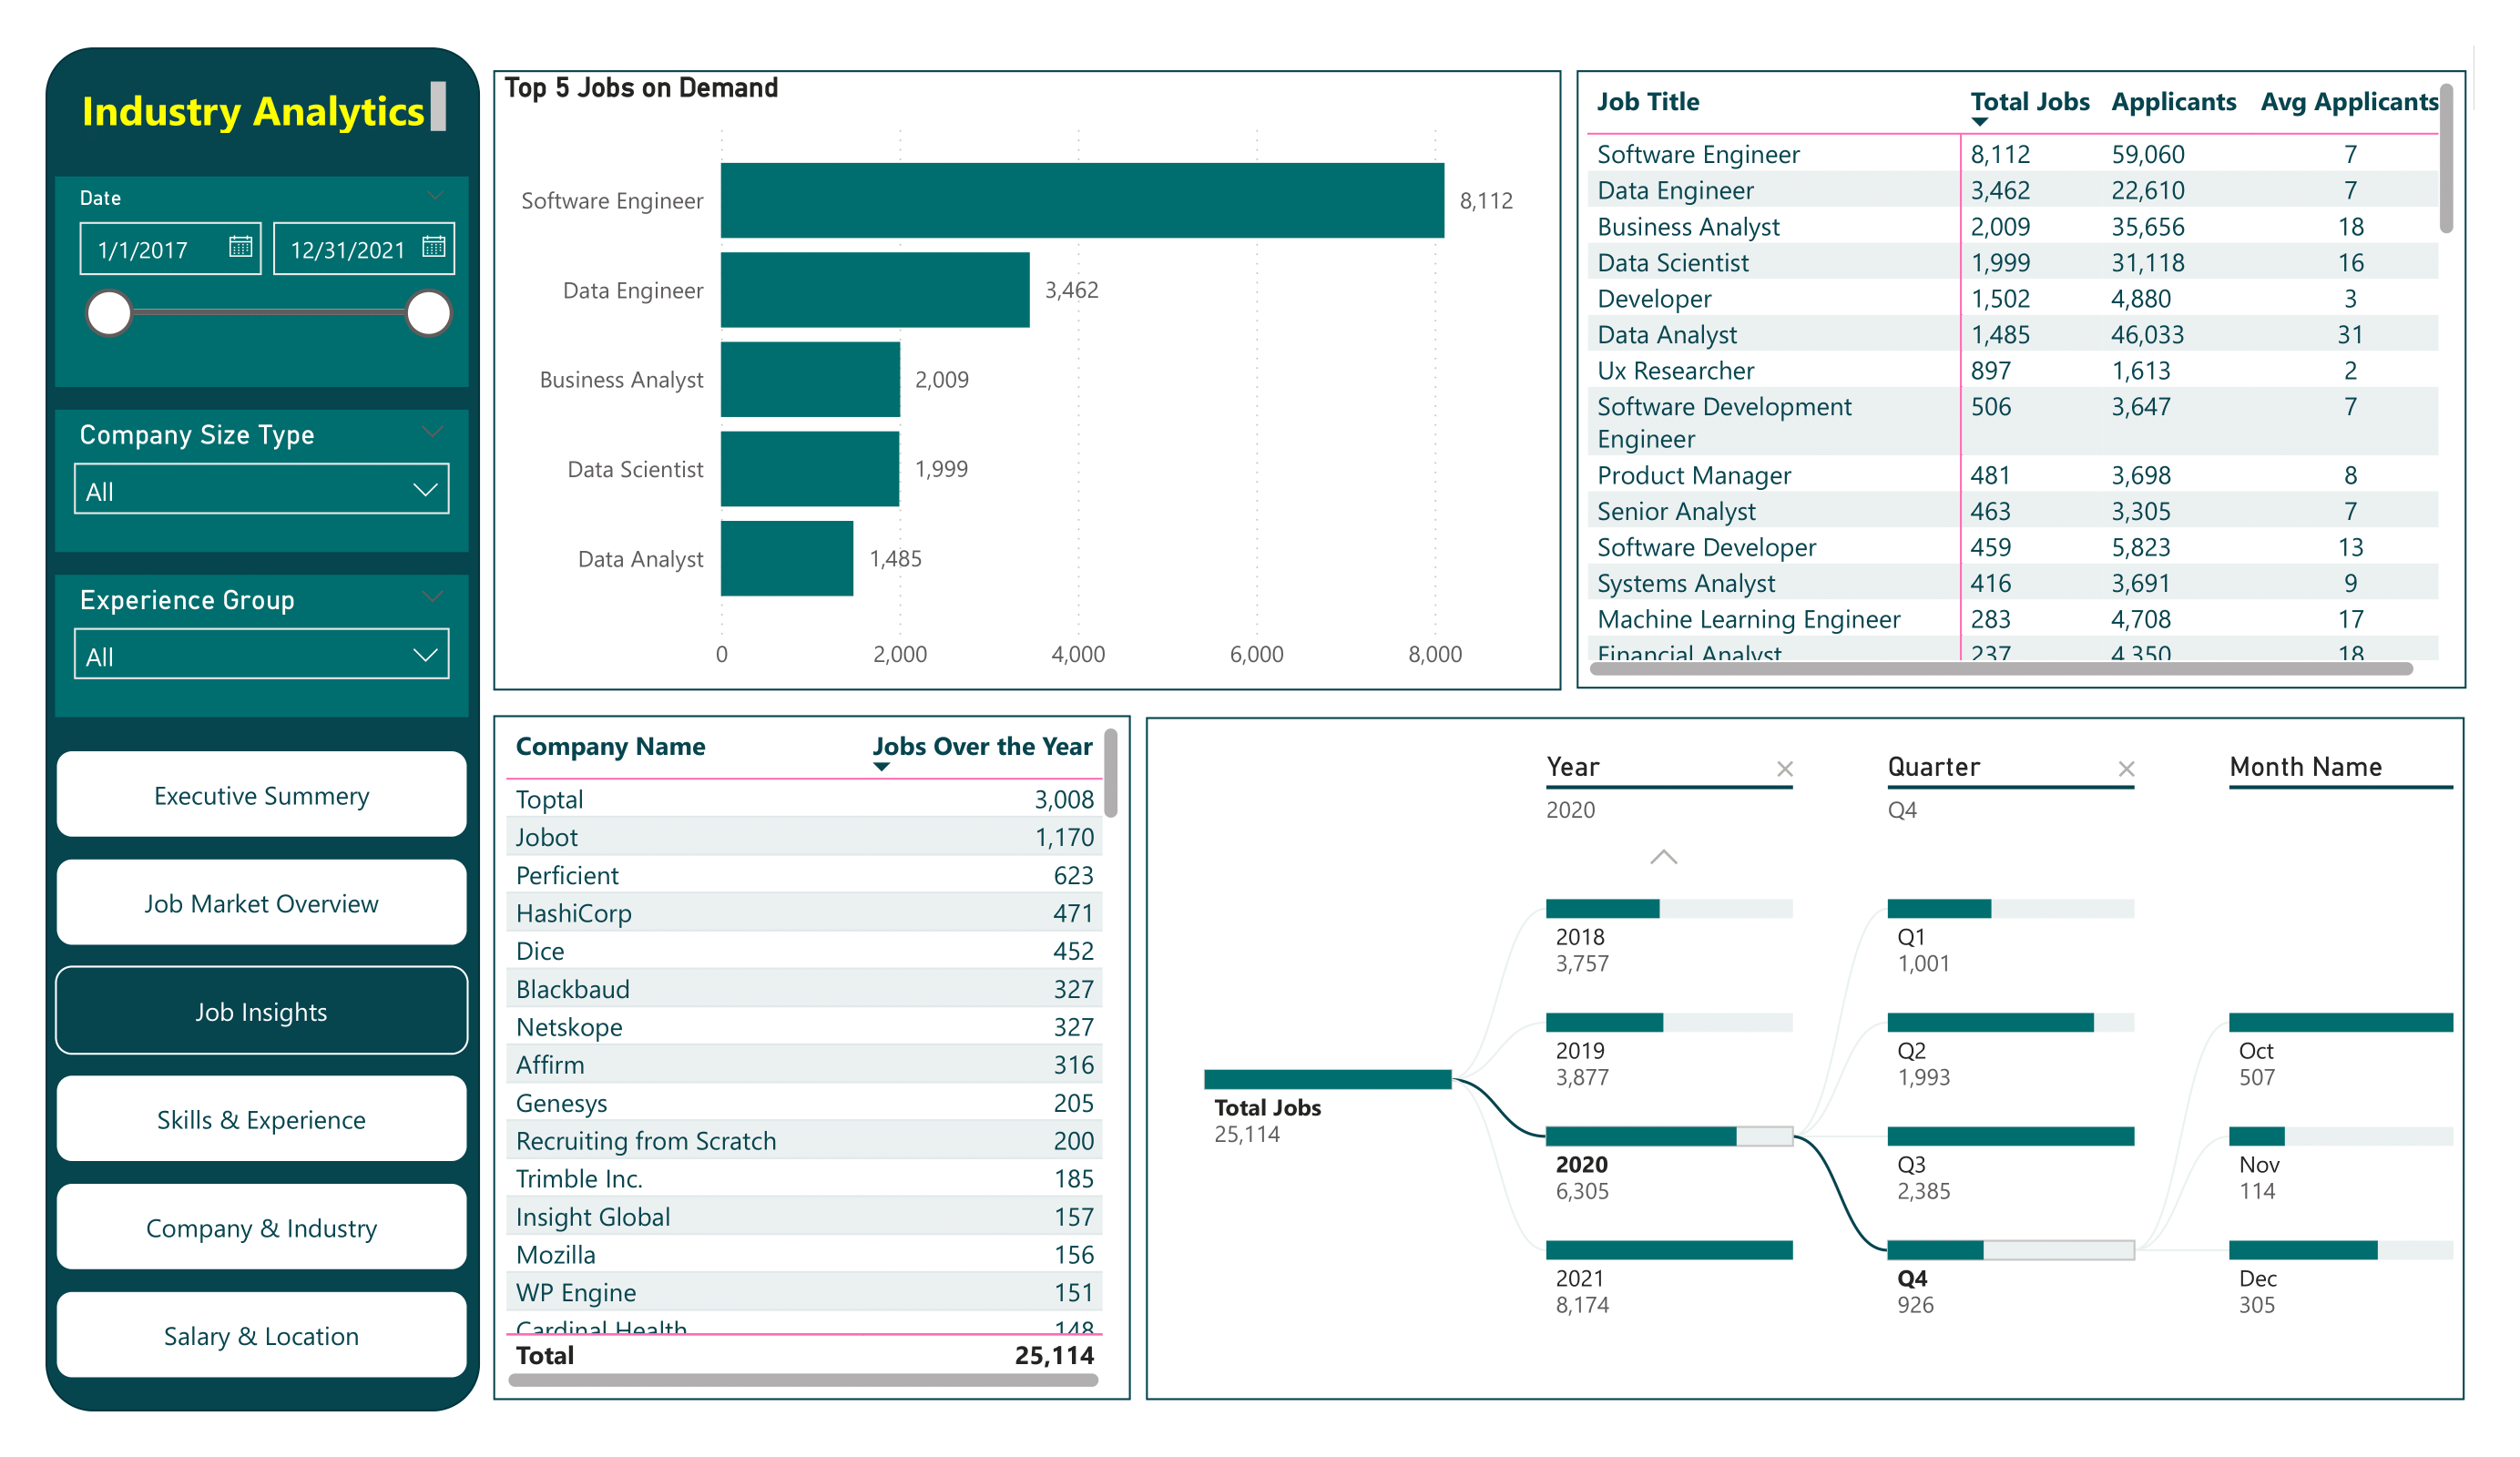

The page's visual inventory and layout, read from the dashboard file:
{"tool":"powerbi","page":{"name":"Job Insights","canvas":[1280,720],"ordinal":2},"visuals":[{"type":"clusteredBarChart","title":"Top 5 Jobs on Demand","fields":{"Category":["job_postings.Job Title"],"Y":["_Measure.Total Jobs"]},"box":[235.6,13.3,563.3,326.7],"z":0},{"type":"tableEx","title":"Average Candidate by Position","fields":{"Values":["job_postings.Company Name","_Measure.Total Jobs"]},"box":[235.6,353.3,336.7,361.1],"z":1000},{"type":"group","id":"g1","title":"Group 1","box":[0,0.8,229.1,719.1],"z":2000},{"type":"decompositionTreeVisual","fields":{"Analyze":["_Measure.Total Jobs"],"ExplainBy":["DimDate.Year","DimDate.Quarter","DimDate.Month Name"]},"box":[579.5,353.8,695.4,359.8],"z":3000},{"type":"pivotTable","fields":{"Rows":["job_postings.Job Title"],"Values":["_Measure.Total Jobs","_Measure.Total Applicants","_Measure.Avg Applicants"]},"box":[806.7,13.3,468.9,325.6],"z":4000},{"type":"shape","box":[0,0.8,229.1,719.1],"z":8000,"group":"g1"},{"type":"textbox","box":[10.9,13.5,205.5,37.3],"z":9000,"group":"g1"},{"type":"slicer","fields":{"Values":["DimDate.Date"]},"box":[5,68.8,217.7,110.9],"z":10000},{"type":"pageNavigator","box":[5,371.1,217.7,332.6],"z":11000},{"type":"slicer","fields":{"Values":["job_postings.Company Size Type"]},"box":[5.3,192,217.7,74.7],"z":12000},{"type":"slicer","fields":{"Values":["job_postings.Experience Group"]},"box":[5.3,279,217.7,74.7],"z":13000}]}

Visuals, with their boxes on the page's 1280x720 design canvas (x1, y1, x2, y2). These are canvas units, not pixel positions in the 2520x1457 screenshot, which may show the page scaled, cropped or inside an application window:
"Top 5 Jobs on Demand" clusteredBarChart: [236, 13, 799, 340]
"Average Candidate by Position" tableEx: [236, 353, 572, 714]
"Group 1" group: [0, 1, 229, 720]
decompositionTreeVisual - _Measure.Total Jobs x DimDate.Year: [580, 354, 1275, 714]
pivotTable - job_postings.Job Title x _Measure.Total Jobs: [807, 13, 1276, 339]
shape: [0, 1, 229, 720]
textbox: [11, 14, 216, 51]
slicer - DimDate.Date: [5, 69, 223, 180]
pageNavigator: [5, 371, 223, 704]
slicer - job_postings.Company Size Type: [5, 192, 223, 267]
slicer - job_postings.Experience Group: [5, 279, 223, 354]
